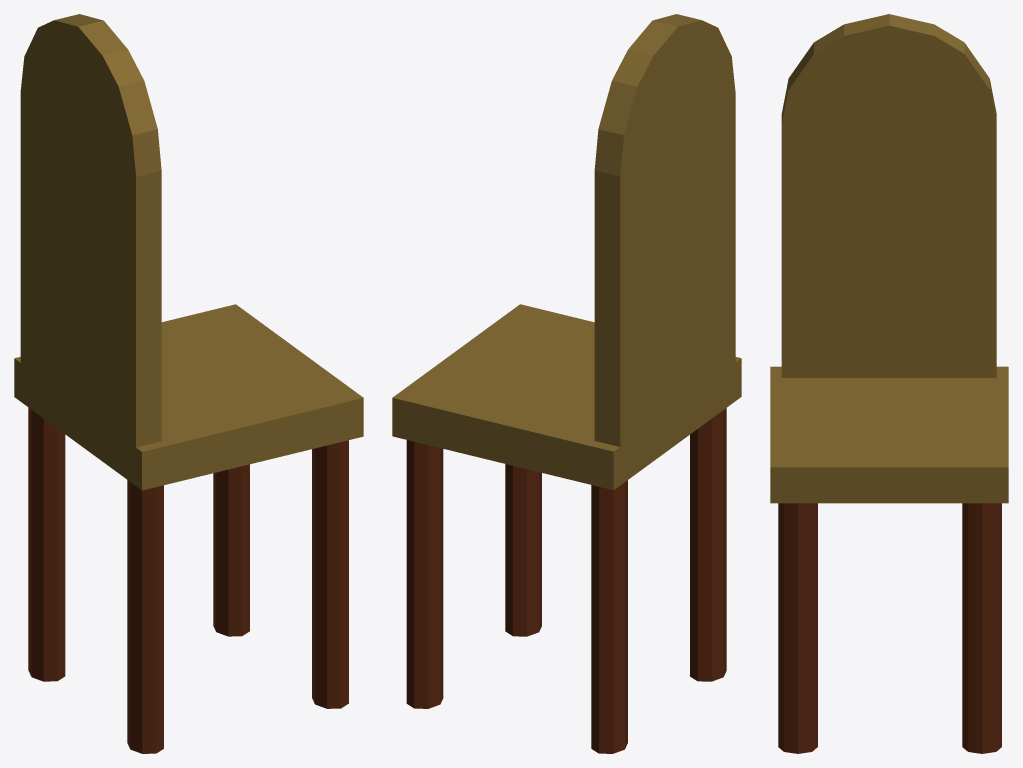
File: Chair 2.fbx
3 views of the same model, side by side, from view 1: azimuth 30°, elevation 25°; view 2: azimuth 150°, elevation 25°; view 3: azimuth 270°, elevation 25° (orthographic). The views are drawn at different scales.
Visible parts, largest first — view 1: Chair; view 2: Chair; view 3: Chair.
Boxes of the visible parts, <box> form: Chair: <box>14,14,363,753</box>; Chair: <box>392,14,741,753</box>; Chair: <box>770,14,1008,753</box>.
Bounding box in the file's own units: 1200 × 3558 × 1200.
